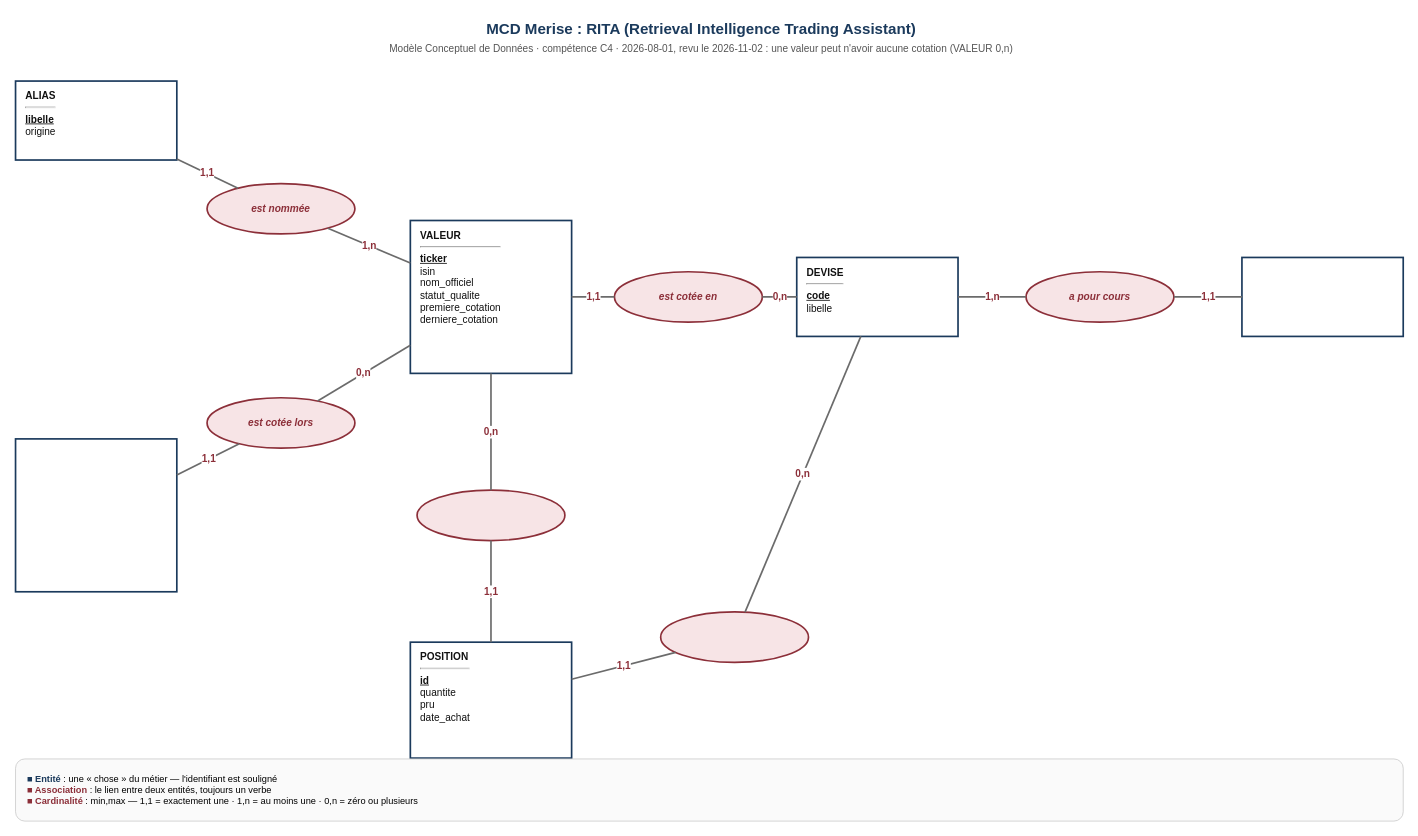
The diagram is 1418 pixels wide and 836 high, and some of its shapes have lost their labels. Here are the shapes that lost their labels. From the top down, the centre of each, then its label:
At (x=1322, y=296): "TAUX_CHANGE date_taux valeur_pour_eur".
At (x=95, y=515): "COTATION date_seance ouverture haut bas cloture volume".
At (x=490, y=515): "est détenue".
At (x=734, y=637): "est libellée en".
